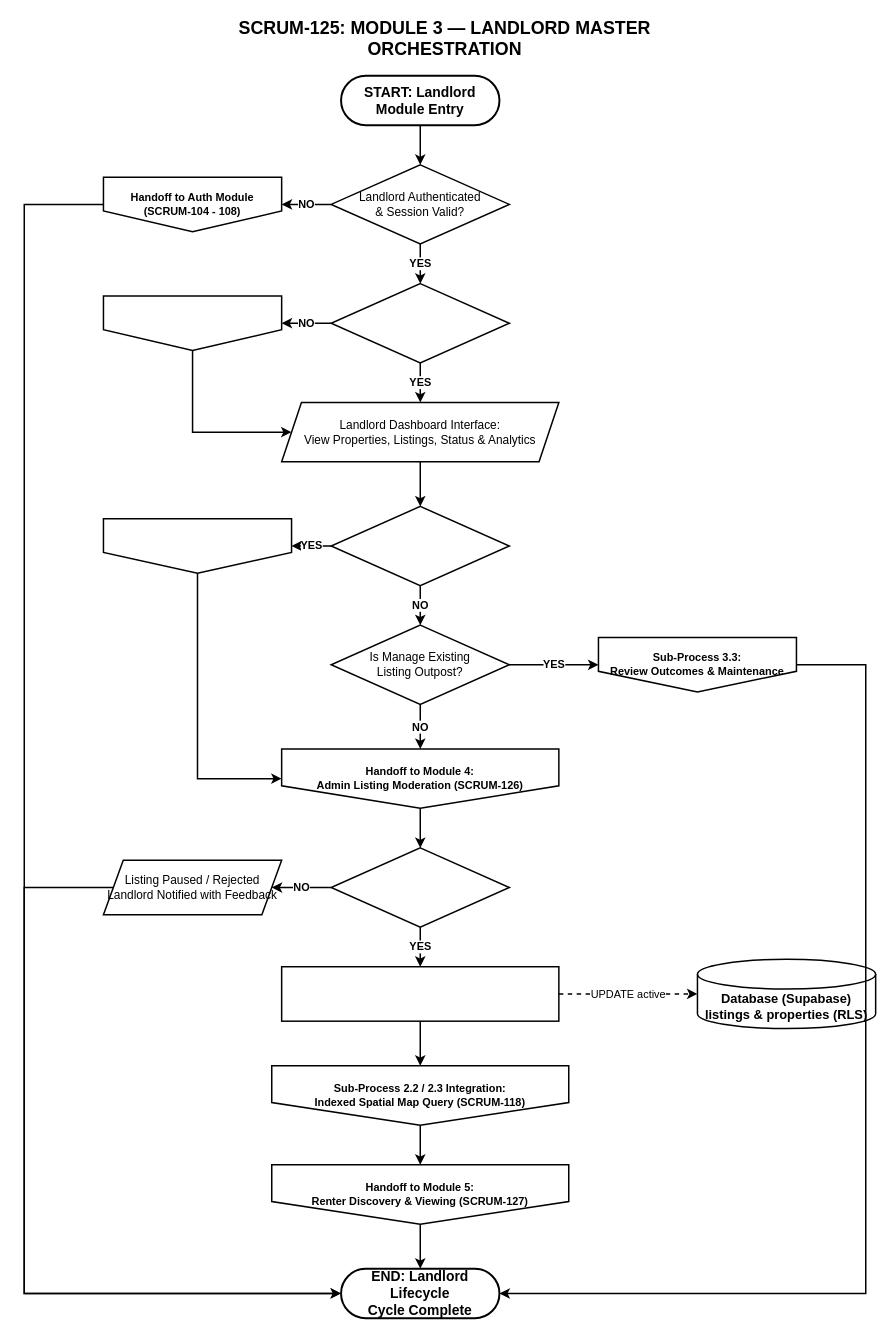
Image size: 894x1336. Some labels were removed from this diagram. The shapes that lost their labels are listed below. From the top down, each one's centre as x and y in pixels, then its label:
At [192,323]: "Sub-Process 3.1: Landlord Onboarding & KYC".
At [420,322]: "Landlord KYC Status Verified / Approved?".
At [197,546]: "Sub-Process 3.2: Listing Draft & Submission".
At [420,545]: "Is Create / Edit Listing Draft?".
At [420,887]: "Moderation Outcome Approved / Published?".
At [419,993]: "Listing Status -> 'active' Commit Spatial Geometries & Attributes".
